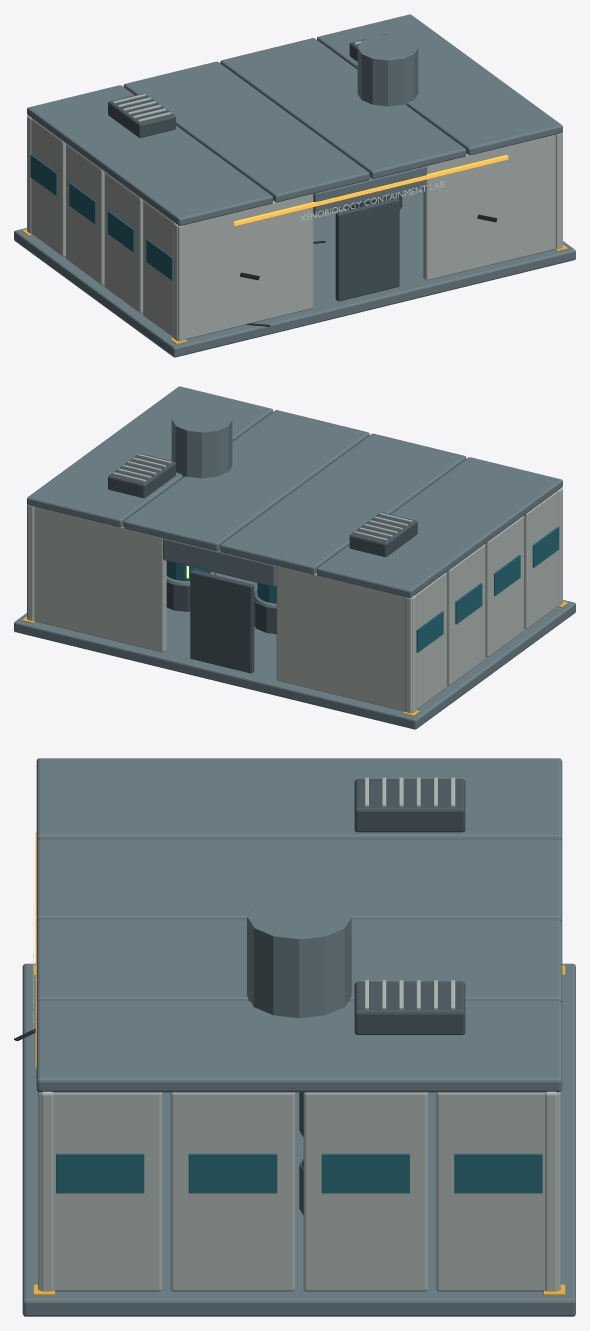
File: research_xenobiology_d1.glb
The picture shows the model from 3 angles, top to bottom: view 1: azimuth 30°, elevation 25°; view 2: azimuth 150°, elevation 25°; view 3: azimuth 270°, elevation 25°; orthographic projection. The views are drawn at different scales.
Visible parts, largest first — view 1: End bulkhead.046, End bulkhead.047, Removable roof segment.035, Removable roof segment.036, Removable roof segment.034, Foundation.013, Removable roof segment.037, Sealed airlock.014, Roof quarantine scrubber.001, Side pressure panel.078, Side pressure panel.079, Side pressure panel.077 (+11 smaller); view 2: End bulkhead.048, End bulkhead.049, Removable roof segment.035, Removable roof segment.036, Removable roof segment.034, Foundation.013, Removable roof segment.037, Sealed airlock.015, Roof quarantine scrubber.001, Side pressure panel.079, Side pressure panel.078, Side pressure panel.080 (+13 smaller); view 3: Removable roof segment.037, Removable roof segment.035, Removable roof segment.034, Removable roof segment.036, Foundation.013, Side pressure panel.082, Side pressure panel.083, Side pressure panel.084, Side pressure panel.081, Roof quarantine scrubber.001, Roof heat exchanger.017, Roof heat exchanger.018 (+6 smaller).
Boxes of the visible parts, x1=… form: End bulkhead.046: x1=173, y1=194, x2=313, y2=340; End bulkhead.047: x1=423, y1=132, x2=562, y2=280; Removable roof segment.035: x1=123, y1=61, x2=369, y2=202; Removable roof segment.036: x1=220, y1=38, x2=466, y2=178; Removable roof segment.034: x1=27, y1=85, x2=272, y2=225; Foundation.013: x1=14, y1=189, x2=575, y2=357; Removable roof segment.037: x1=317, y1=14, x2=562, y2=155; Sealed airlock.014: x1=335, y1=198, x2=399, y2=301; Roof quarantine scrubber.001: x1=357, y1=34, x2=418, y2=106; Side pressure panel.078: x1=104, y1=172, x2=143, y2=313; Side pressure panel.079: x1=66, y1=144, x2=104, y2=285; Side pressure panel.077: x1=143, y1=200, x2=184, y2=341; End bulkhead.048: x1=276, y1=566, x2=416, y2=712; End bulkhead.049: x1=27, y1=504, x2=166, y2=652; Removable roof segment.035: x1=220, y1=433, x2=466, y2=574; Removable roof segment.036: x1=123, y1=410, x2=369, y2=550; Removable roof segment.034: x1=317, y1=457, x2=562, y2=597; Foundation.013: x1=14, y1=572, x2=575, y2=729; Removable roof segment.037: x1=27, y1=386, x2=272, y2=527; Sealed airlock.015: x1=190, y1=570, x2=254, y2=673; Roof quarantine scrubber.001: x1=171, y1=406, x2=232, y2=478; Side pressure panel.079: x1=446, y1=544, x2=485, y2=685; Side pressure panel.078: x1=485, y1=516, x2=523, y2=657; Side pressure panel.080: x1=405, y1=572, x2=446, y2=713; Removable roof segment.037: x1=36, y1=1001, x2=562, y2=1092; Removable roof segment.035: x1=36, y1=839, x2=562, y2=922; Removable roof segment.034: x1=36, y1=758, x2=562, y2=841; Removable roof segment.036: x1=36, y1=920, x2=562, y2=1003; Foundation.013: x1=22, y1=963, x2=575, y2=1316; Side pressure panel.082: x1=170, y1=1092, x2=295, y2=1291; Side pressure panel.083: x1=303, y1=1092, x2=427, y2=1291; Side pressure panel.084: x1=436, y1=1092, x2=560, y2=1291; Side pressure panel.081: x1=38, y1=1092, x2=162, y2=1291; Roof quarantine scrubber.001: x1=247, y1=895, x2=351, y2=1018; Roof heat exchanger.017: x1=354, y1=779, x2=465, y2=832; Roof heat exchanger.018: x1=354, y1=981, x2=465, y2=1034.
Size of the model in its own units: 13 by 5.57 by 9.14.
